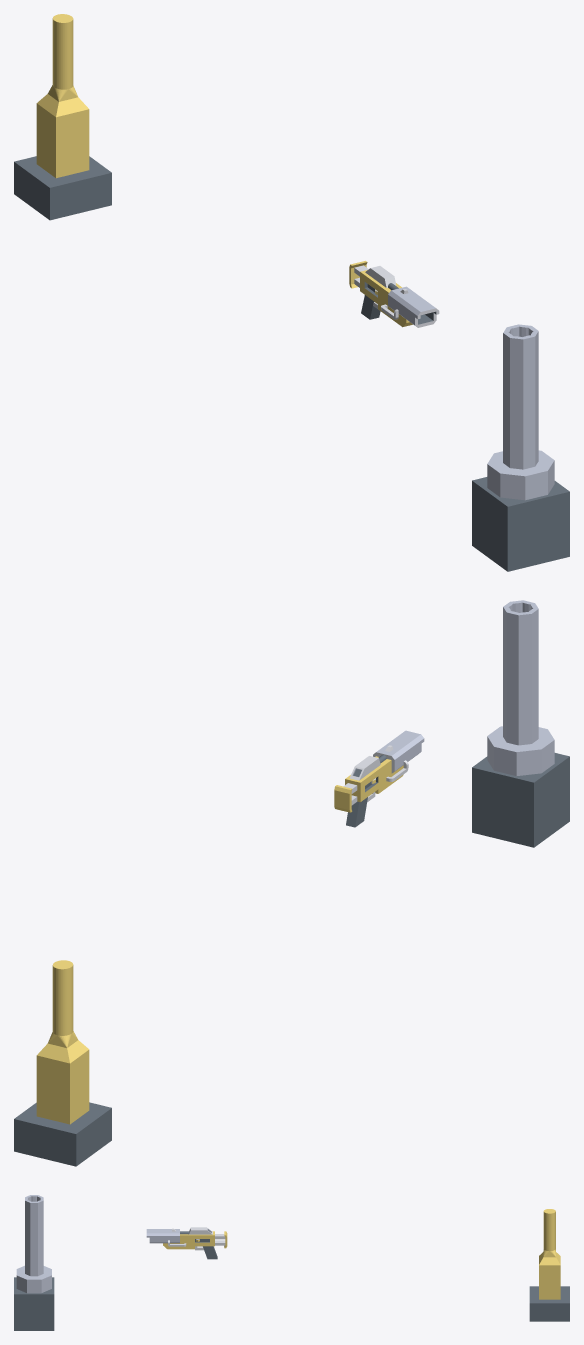
Rendered from TurretGun.glb.
The picture shows the model from 3 angles, top to bottom: view 1: azimuth 30°, elevation 25°; view 2: azimuth 150°, elevation 25°; view 3: azimuth 270°, elevation 25°; orthographic projection. The views are drawn at different scales.
Parts seen in each view (by area): view 1: Cube, Cylinder, Cube.001, blasterG; view 2: Cube, Cylinder, Cube.001, blasterG; view 3: Cube, Cylinder, Cube.001, blasterG.
Boxes of the visible parts, bbox=[...] form: Cube: bbox=[14, 14, 111, 220]; Cylinder: bbox=[487, 324, 554, 500]; Cube.001: bbox=[472, 477, 569, 571]; blasterG: bbox=[349, 260, 439, 327]; Cube: bbox=[14, 960, 111, 1166]; Cylinder: bbox=[487, 600, 554, 776]; Cube.001: bbox=[472, 753, 569, 847]; blasterG: bbox=[334, 730, 424, 827]; Cube: bbox=[529, 1209, 569, 1321]; Cylinder: bbox=[16, 1195, 51, 1293]; Cube.001: bbox=[14, 1277, 54, 1330]; blasterG: bbox=[146, 1227, 227, 1259].
Bounding box in the file's own units: 2 × 6.74 × 27.5.
